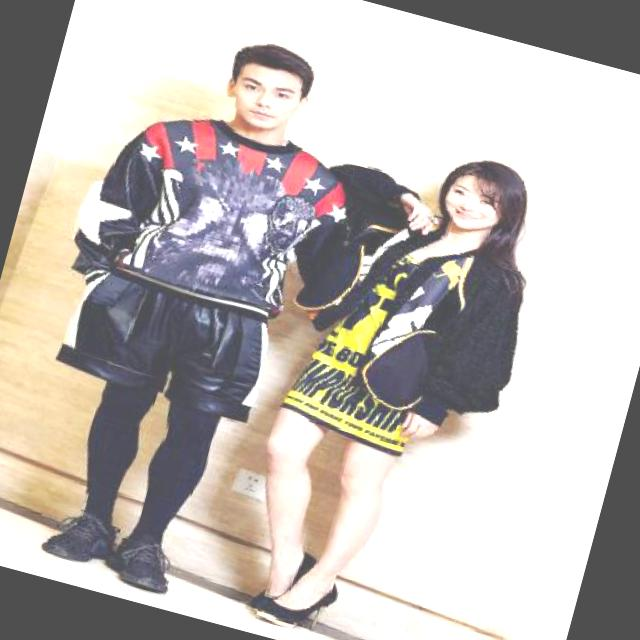Person: (0, 0, 381, 625), (193, 88, 569, 640)
